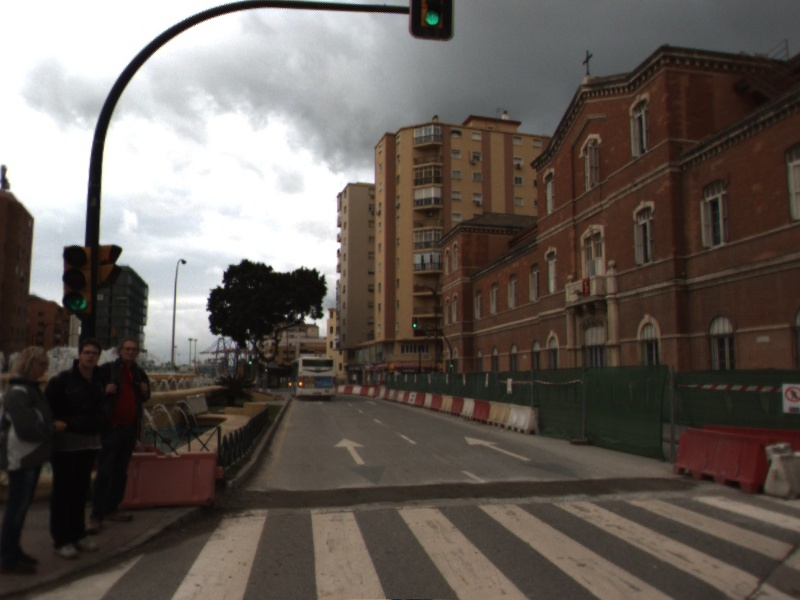STRAIGHT: (462, 434, 533, 463), (333, 436, 367, 466)
